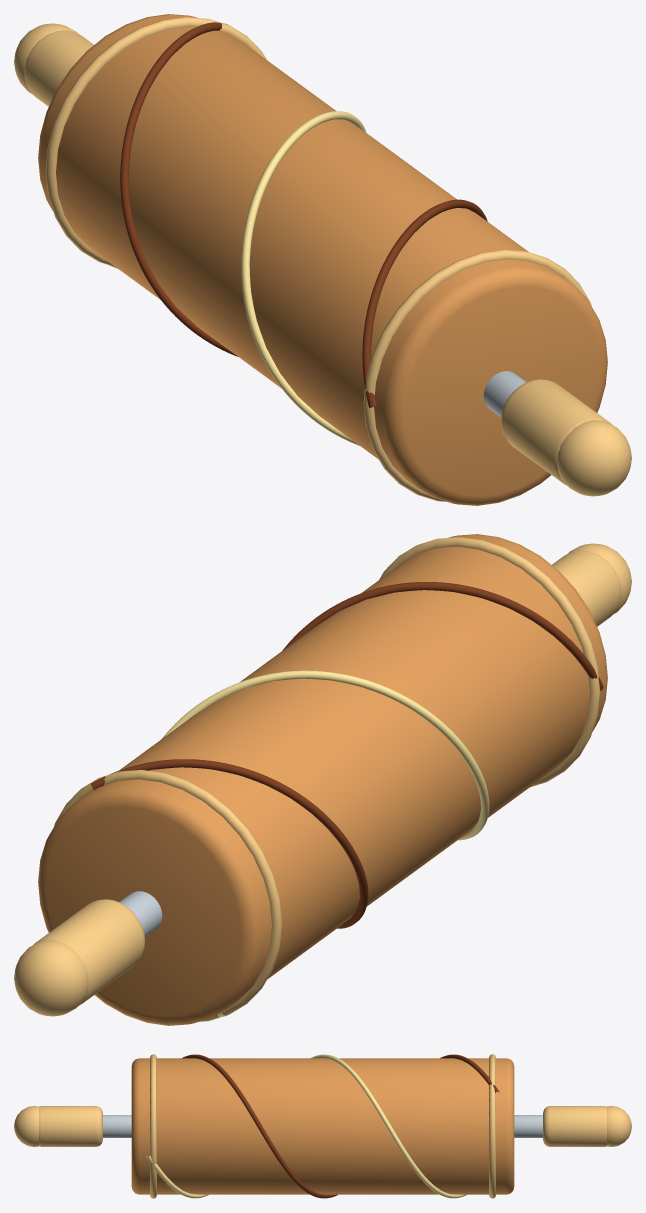
File: RollingPinSpinner.glb
The picture shows the model from 3 angles, top to bottom: view 1: azimuth 30°, elevation 25°; view 2: azimuth 150°, elevation 25°; view 3: azimuth 270°, elevation 25°; orthographic projection. The views are drawn at different scales.
Parts seen in each view (by area): view 1: RollingPinSpinner_Barrel, RollingPinSpinner_DarkSpiral, RollingPinSpinner_HandleLeft, RollingPinSpinner_TipLeft, RollingPinSpinner_BandLeft, RollingPinSpinner_BandRight, RollingPinSpinner_LightSpiral, RollingPinSpinner_HandleRight, RollingPinSpinner_AxleLeft, RollingPinSpinner_TipRight; view 2: RollingPinSpinner_Barrel, RollingPinSpinner_DarkSpiral, RollingPinSpinner_HandleRight, RollingPinSpinner_TipRight, RollingPinSpinner_BandRight, RollingPinSpinner_BandLeft, RollingPinSpinner_LightSpiral, RollingPinSpinner_HandleLeft, RollingPinSpinner_AxleRight, RollingPinSpinner_TipLeft; view 3: RollingPinSpinner_Barrel, RollingPinSpinner_HandleLeft, RollingPinSpinner_HandleRight, RollingPinSpinner_LightSpiral, RollingPinSpinner_DarkSpiral, RollingPinSpinner_BandRight, RollingPinSpinner_BandLeft, RollingPinSpinner_TipLeft, RollingPinSpinner_TipRight, RollingPinSpinner_AxleLeft, RollingPinSpinner_AxleRight.
Boxes of the visible parts, x1,y1,x2,y2 form: RollingPinSpinner_Barrel: (38,14,607,505); RollingPinSpinner_DarkSpiral: (120,22,487,408); RollingPinSpinner_HandleLeft: (501,379,612,485); RollingPinSpinner_TipLeft: (557,420,631,496); RollingPinSpinner_BandLeft: (363,250,591,501); RollingPinSpinner_BandRight: (45,17,266,264); RollingPinSpinner_LightSpiral: (108,111,366,445); RollingPinSpinner_HandleRight: (24,30,93,106); RollingPinSpinner_AxleLeft: (483,371,526,416); RollingPinSpinner_TipRight: (14,23,76,94); RollingPinSpinner_Barrel: (38,534,607,1025); RollingPinSpinner_DarkSpiral: (91,582,603,928); RollingPinSpinner_HandleRight: (33,899,144,1005); RollingPinSpinner_TipRight: (14,940,88,1016); RollingPinSpinner_BandRight: (54,770,282,1021); RollingPinSpinner_BandLeft: (379,537,600,787); RollingPinSpinner_LightSpiral: (162,670,489,1017); RollingPinSpinner_HandleLeft: (552,550,621,626); RollingPinSpinner_AxleRight: (119,891,162,936); RollingPinSpinner_TipLeft: (569,543,631,614); RollingPinSpinner_Barrel: (131,1058,514,1194); RollingPinSpinner_HandleLeft: (38,1106,102,1146); RollingPinSpinner_HandleRight: (543,1106,607,1146); RollingPinSpinner_LightSpiral: (146,1054,466,1198); RollingPinSpinner_DarkSpiral: (182,1054,499,1198); RollingPinSpinner_BandRight: (489,1054,495,1198); RollingPinSpinner_BandLeft: (150,1054,156,1198); RollingPinSpinner_TipLeft: (14,1106,39,1146); RollingPinSpinner_TipRight: (606,1106,631,1146); RollingPinSpinner_AxleLeft: (103,1115,131,1137); RollingPinSpinner_AxleRight: (514,1115,542,1137).
Size of the model in its own units: 2.12 by 2.12 by 9.04.
